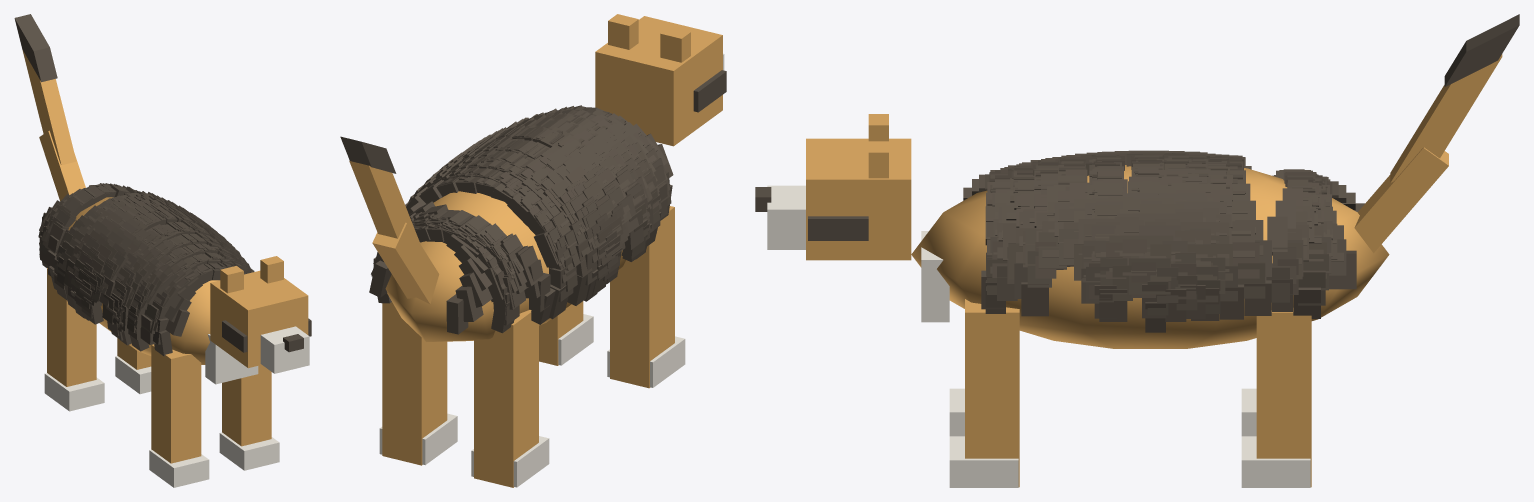
File: troop-tiger.glb
3 renders of one model, left to right at view 1: azimuth 30°, elevation 25°; view 2: azimuth 150°, elevation 25°; view 3: azimuth 270°, elevation 25°, orthographic. The views are drawn at different scales.
Visible parts, largest first — view 1: head, leg_fl, variant_5, leg_bl, variant_2, variant_8, leg_fr, variant_6, variant_1, variant_0, variant_3, body (+15 smaller); view 2: head, leg_bl, leg_fl, leg_br, variant_8, variant_5, body, variant_2, variant_1, variant_6, variant_0, variant_4 (+13 smaller); view 3: body, head, variant_8, variant_5, leg_fr, leg_br, variant_2, variant_0, variant_3, variant_1, variant_4, variant_7 (+10 smaller).
Part boxes in pixels (left/top/right/bottom): head: left=210, top=270, right=308, bottom=368; leg_fl: left=151, top=344, right=201, bottom=463; variant_5: left=45, top=183, right=247, bottom=336; leg_bl: left=47, top=268, right=96, bottom=386; variant_2: left=46, top=184, right=253, bottom=345; variant_8: left=38, top=184, right=248, bottom=324; leg_fr: left=222, top=365, right=271, bottom=446; variant_6: left=44, top=183, right=251, bottom=356; variant_1: left=45, top=184, right=240, bottom=318; variant_0: left=39, top=184, right=254, bottom=332; variant_3: left=40, top=183, right=249, bottom=351; body: left=68, top=197, right=219, bottom=364; head: left=595, top=16, right=722, bottom=146; leg_bl: left=474, top=310, right=538, bottom=487; leg_fl: left=610, top=206, right=674, bottom=388; leg_br: left=382, top=302, right=447, bottom=465; variant_8: left=405, top=105, right=659, bottom=334; variant_5: left=371, top=106, right=673, bottom=305; body: left=385, top=191, right=625, bottom=341; variant_2: left=406, top=106, right=669, bottom=301; variant_1: left=411, top=113, right=655, bottom=324; variant_6: left=411, top=109, right=672, bottom=301; variant_0: left=408, top=109, right=660, bottom=333; variant_4: left=369, top=111, right=659, bottom=325; body: left=911, top=165, right=1389, bottom=348; head: left=806, top=138, right=911, bottom=260; variant_8: left=985, top=151, right=1364, bottom=318; variant_5: left=963, top=150, right=1332, bottom=321; leg_fr: left=965, top=299, right=1019, bottom=487; leg_br: left=1256, top=308, right=1311, bottom=487; variant_2: left=989, top=151, right=1330, bottom=332; variant_0: left=1013, top=150, right=1328, bottom=318; variant_3: left=981, top=151, right=1343, bottom=319; variant_1: left=1030, top=151, right=1312, bottom=321; variant_4: left=985, top=153, right=1356, bottom=313; variant_7: left=1034, top=151, right=1314, bottom=320.
Size of the model in its own units: 0.1114 by 0.236 by 0.3773.
